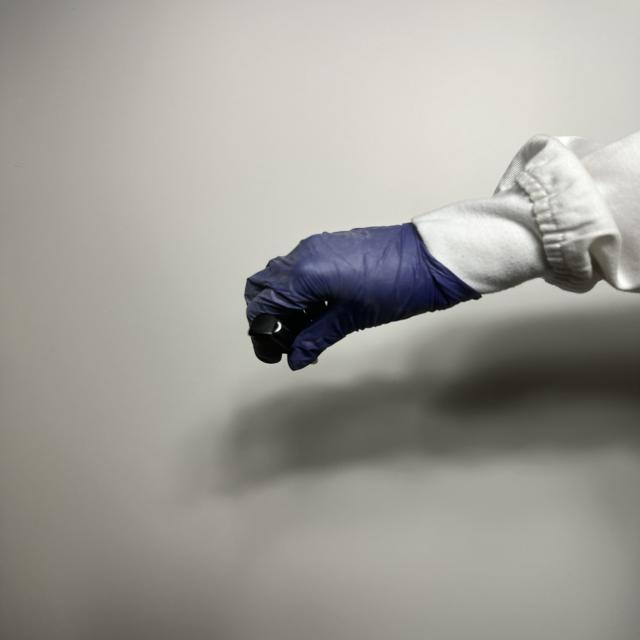gloves_contaminated: (245, 223, 480, 370)
